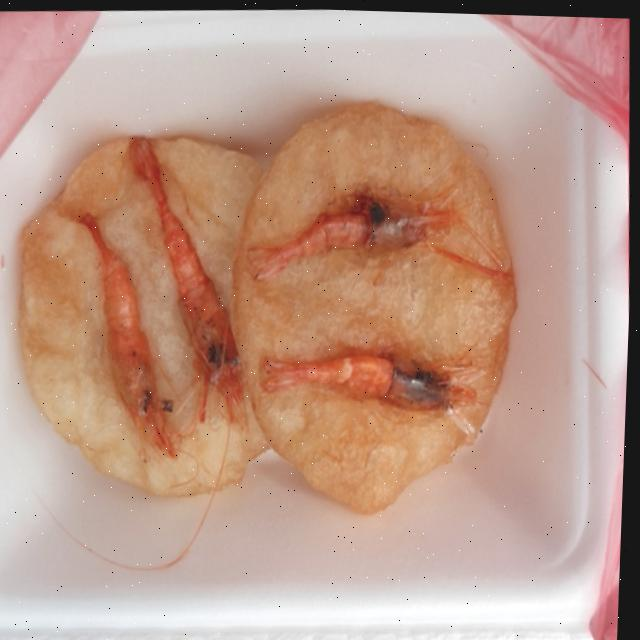炸货点心: (0, 1, 640, 640)
熟制海鲜: (0, 1, 640, 640)
